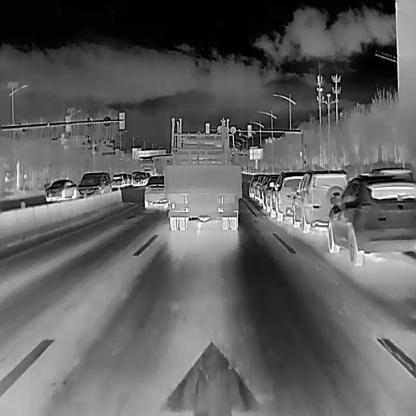car: (324, 173, 416, 265), (290, 170, 350, 232), (268, 169, 309, 220), (76, 170, 112, 200), (42, 176, 76, 202), (143, 174, 167, 210), (131, 171, 146, 188), (110, 171, 123, 189)
truck: (162, 132, 240, 230)
